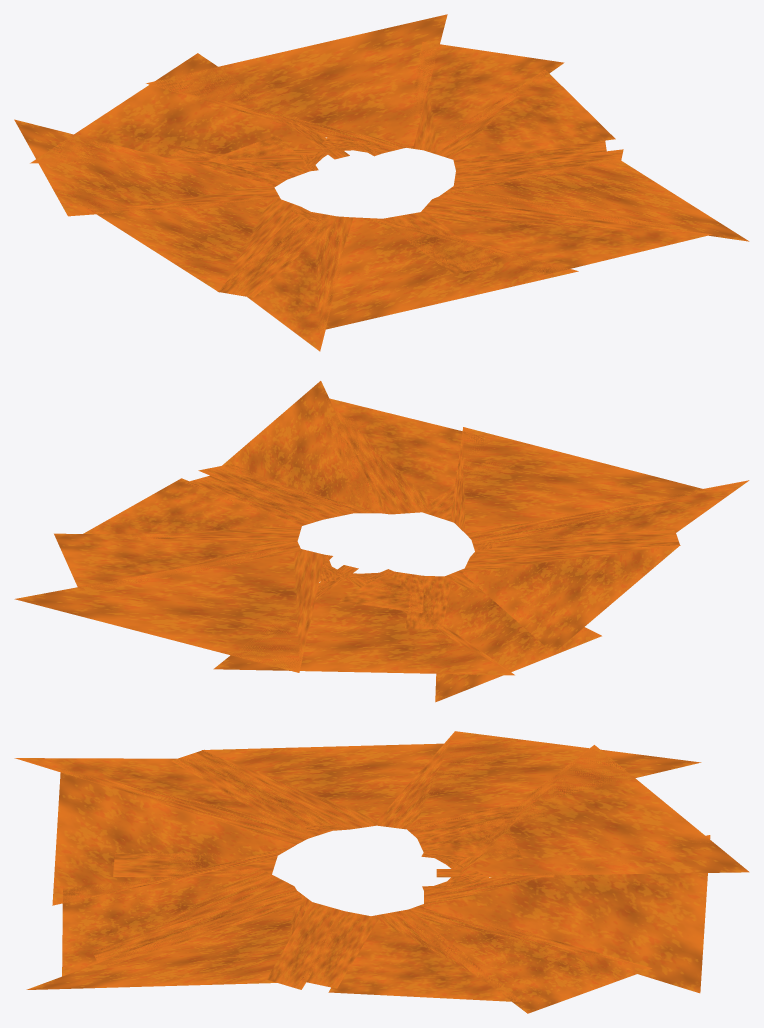
Rendered from LV9Nav.fbx.
3 views of the same model, one above another, from view 1: azimuth 30°, elevation 25°; view 2: azimuth 150°, elevation 25°; view 3: azimuth 270°, elevation 25° (orthographic). The views are drawn at different scales.
Visible parts, largest first — view 1: polySurface98; view 2: polySurface98; view 3: polySurface98.
Boxes of the visible parts, x1,y1,x2,y2 form: polySurface98: (14, 14, 749, 351); polySurface98: (14, 381, 749, 702); polySurface98: (14, 731, 749, 1013).
Size of the model in its own units: 754 by 0 by 830.
